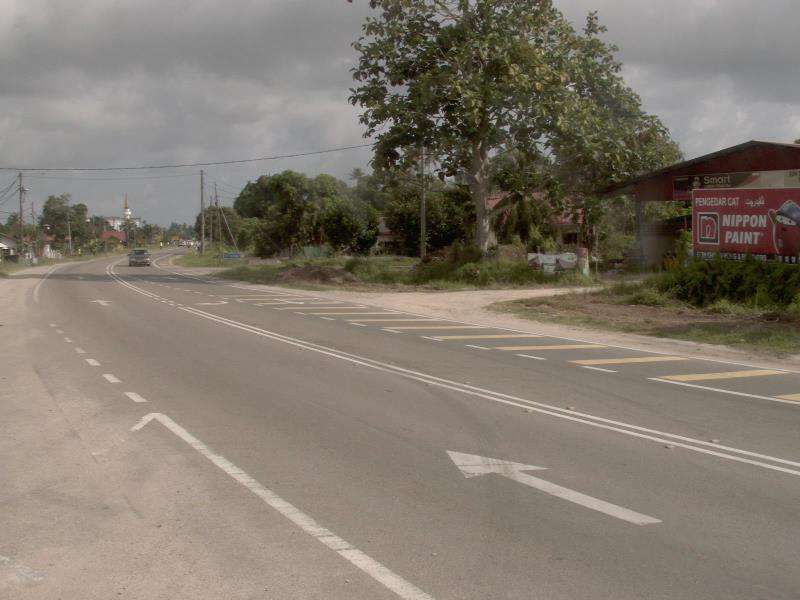ads_sign: (681, 178, 796, 265)
